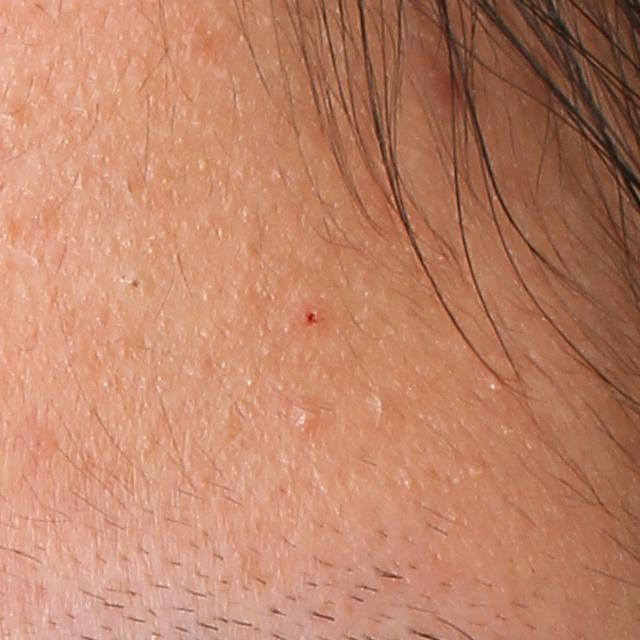comedo: (123, 259, 149, 296), (368, 388, 393, 424), (485, 373, 505, 396), (469, 456, 488, 477)
